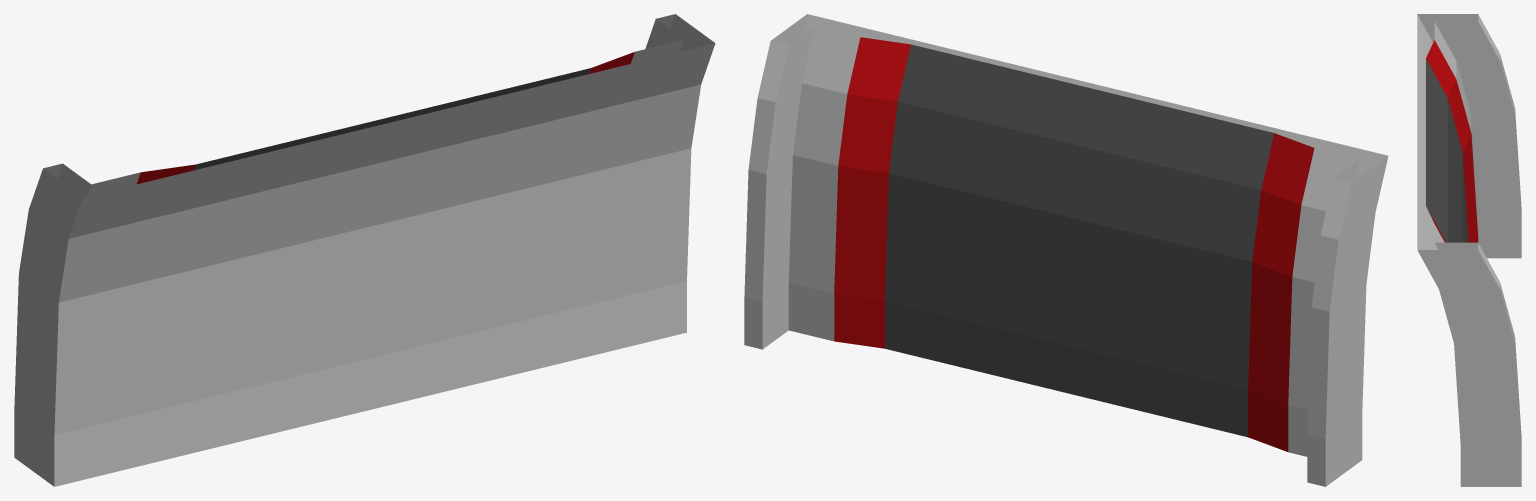
Rendered from Transition_Down_Pitch2.fbx.
3 views of the same model, side by side, from view 1: azimuth 30°, elevation 25°; view 2: azimuth 150°, elevation 25°; view 3: azimuth 270°, elevation 25° (orthographic). The views are drawn at different scales.
Visible parts, largest first — view 1: Transition_Down_Pitch2; view 2: Transition_Down_Pitch2; view 3: Transition_Down_Pitch2.
Boxes of the visible parts, x1,y1,x2,y2 form: Transition_Down_Pitch2: (14, 14, 715, 486); Transition_Down_Pitch2: (744, 14, 1388, 486); Transition_Down_Pitch2: (1417, 14, 1521, 486).
Size of the model in its own units: 1280 by 600 by 240.
